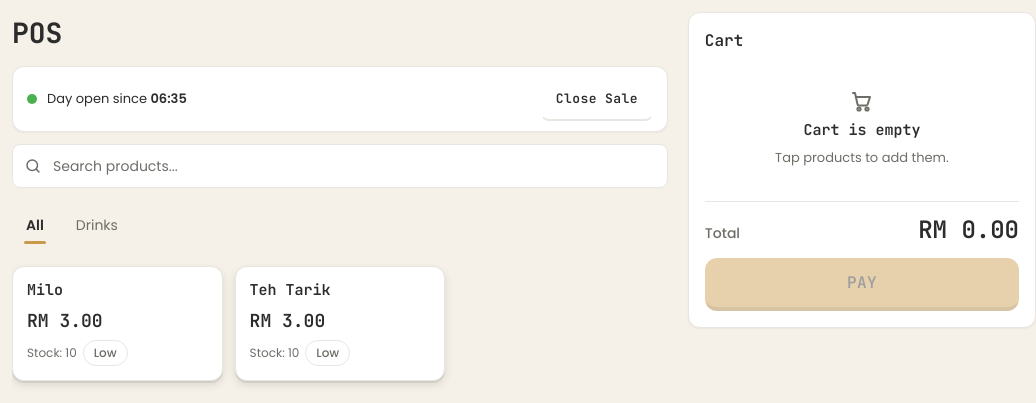
Test case: PosPage › filters by name case-insensitively and clears back
Type "TEH" into the field labelled "Search products" at (340,166), box [12,144,668,188]
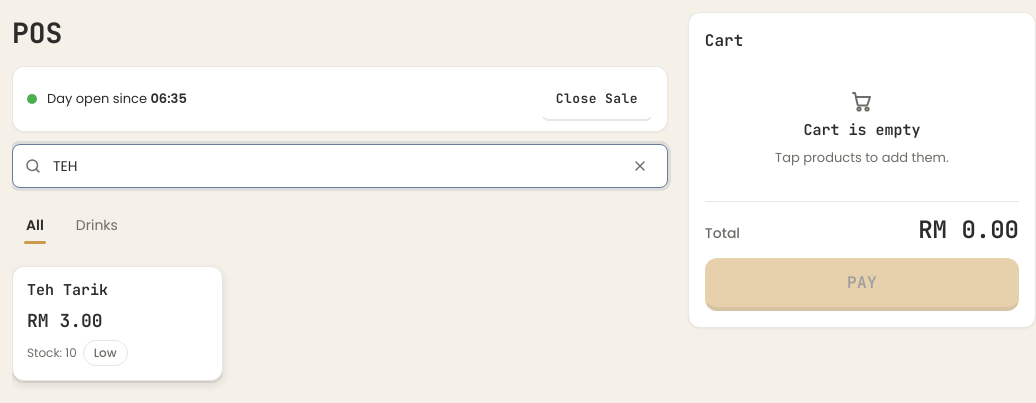
Expected: the button with aria-label "Add Teh Tarik, RM 3.00" is shown, [12,266,223,380]
Click the button named "Clear search" at (640,166), box [618,144,662,188]
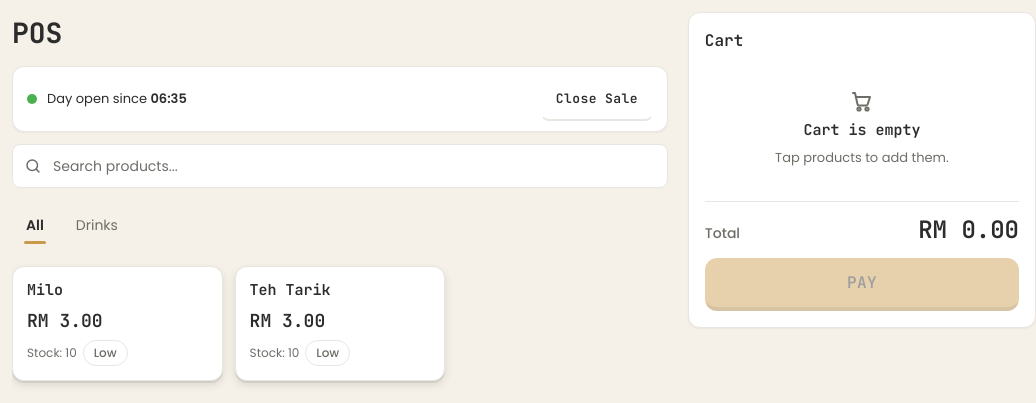
Expected: the button with aria-label "Add Teh Tarik, RM 3.00" is shown, [235,266,445,380]
Expected: the button with aria-label "Add Milo" is shown, [12,266,223,380]
